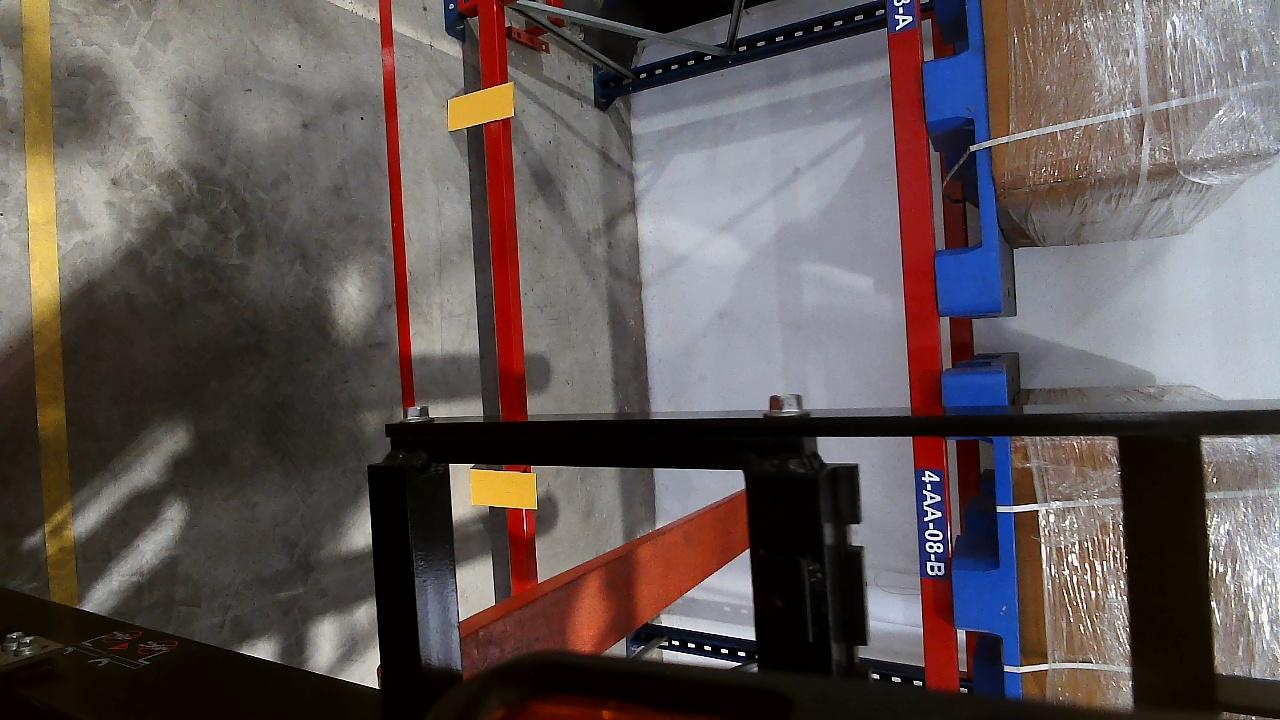h_rack: (882, 0, 948, 679), (472, 5, 525, 419)
orange_strip: (445, 83, 515, 129), (470, 469, 537, 509)
red_line: (378, 0, 417, 438)
small_pallet: (917, 0, 1006, 307), (944, 440, 1027, 693)
yellow_line: (18, 0, 74, 602)
